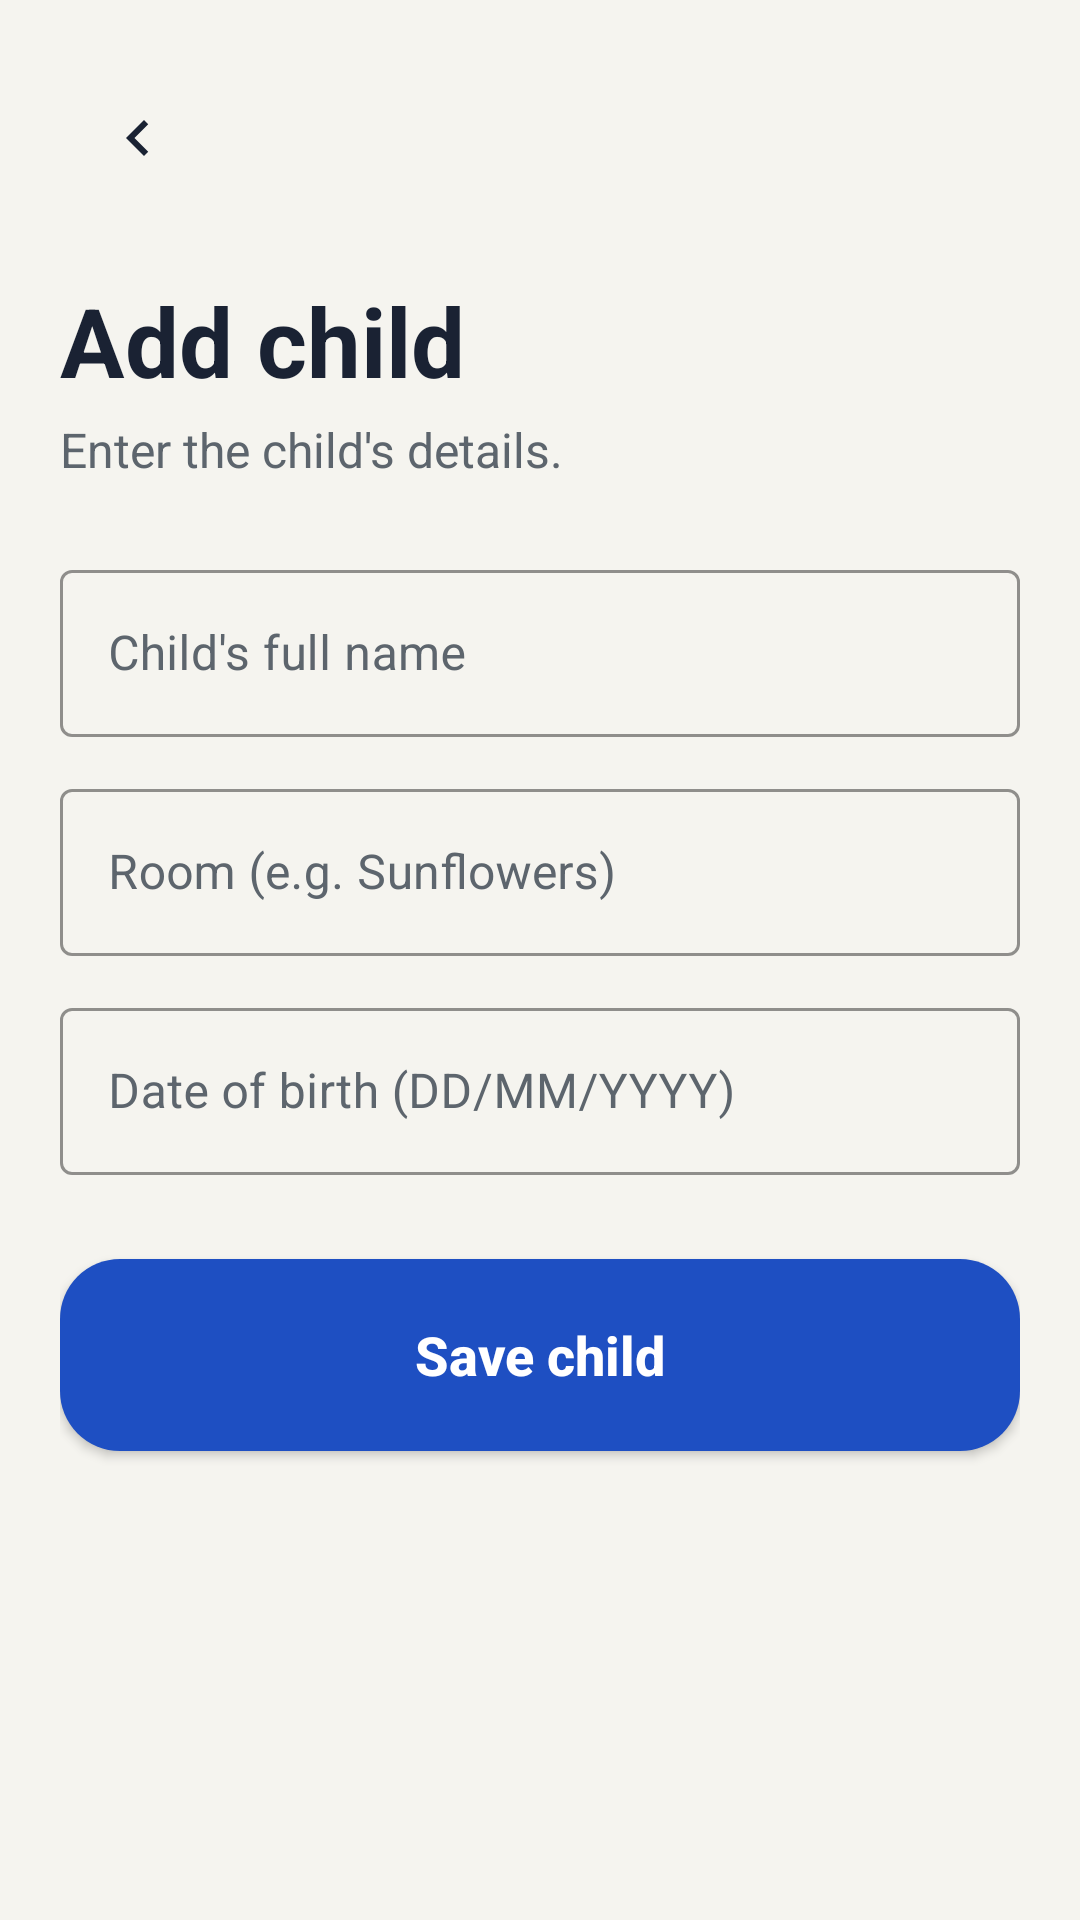

Screen size 1080x1920. Icon name, then its box in pixels as bbox(x1, y1, x2, y2):
Back: bbox(126, 120, 148, 156)
